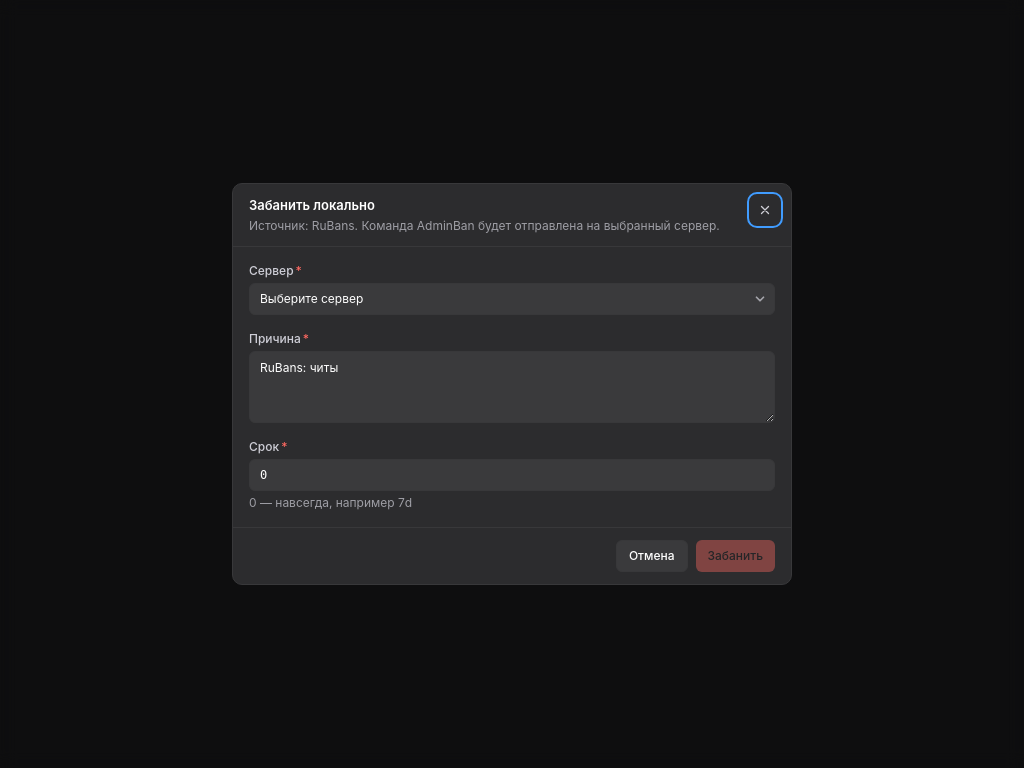
Test: ExternalBanLocalBanModal › shows the field-level message for a 400 validation error instead of "Bad Request" (#443)
Select "RU #1" in the dropdown labelled "Сервер" at {"x": 512, "y": 299}, box [249,283,775,315]
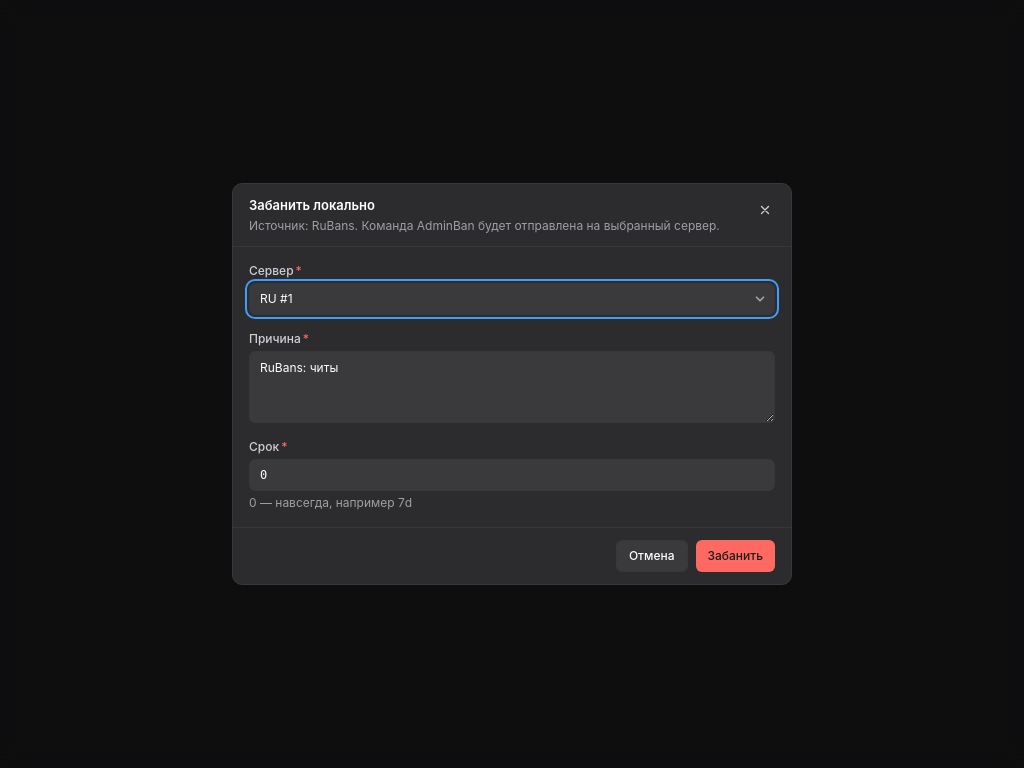
Click the button "Забанить" at {"x": 735, "y": 556}, box [696,540,775,572]
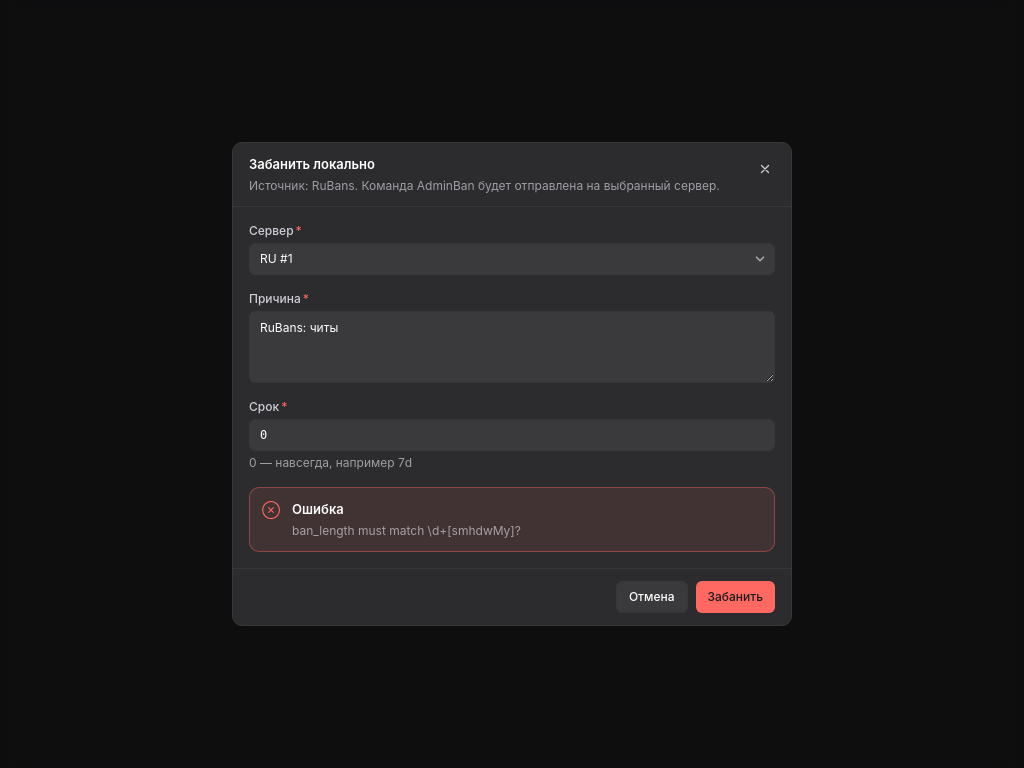
expect the text "ban_length must match \\d+[smhdwMy]?" is shown: met, box [292,523,521,538]
